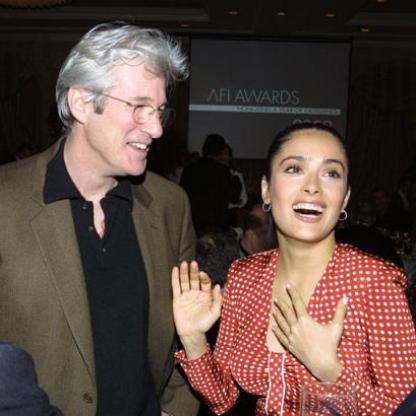face: (88, 41, 178, 180), (270, 123, 351, 244)
